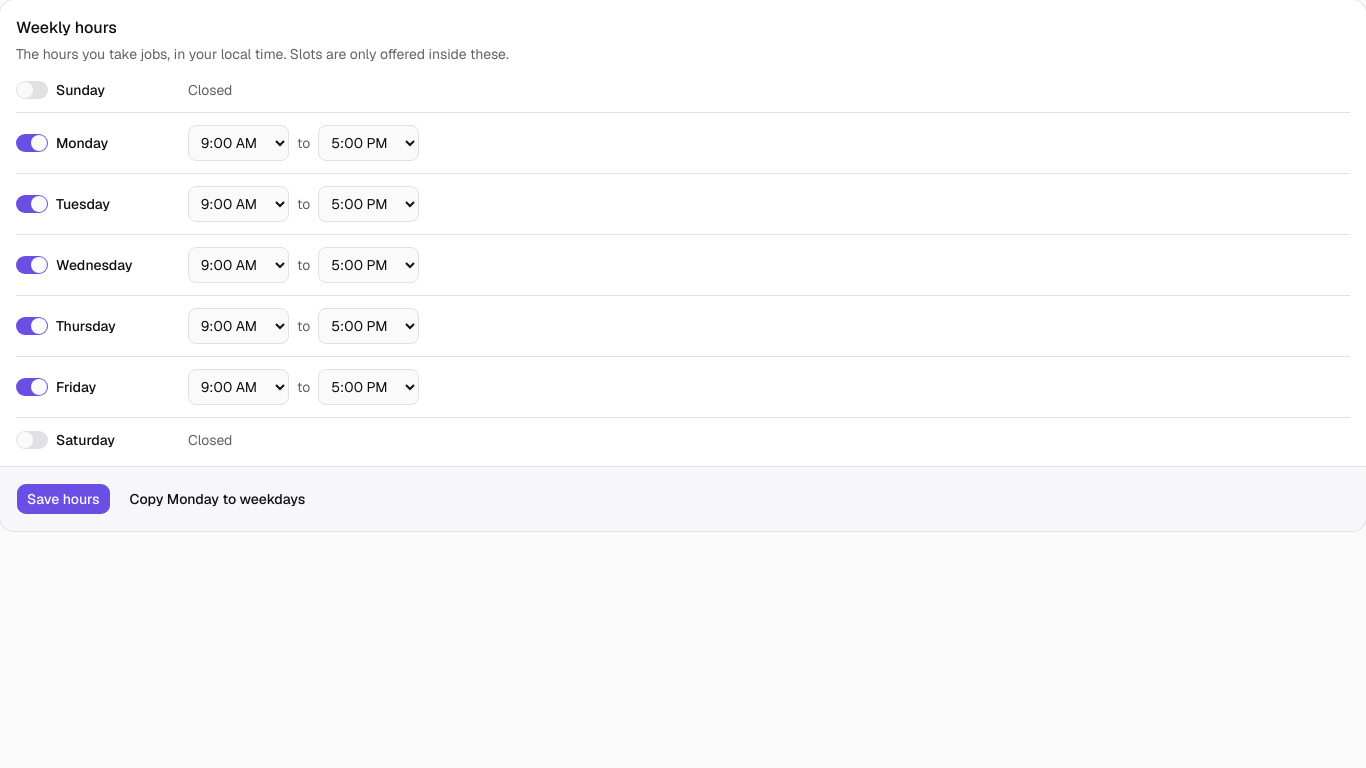
HoursEditor › surfaces a rejection from the server
Click the button "Save hours". click: (63, 499)
box: [16,483,111,515]
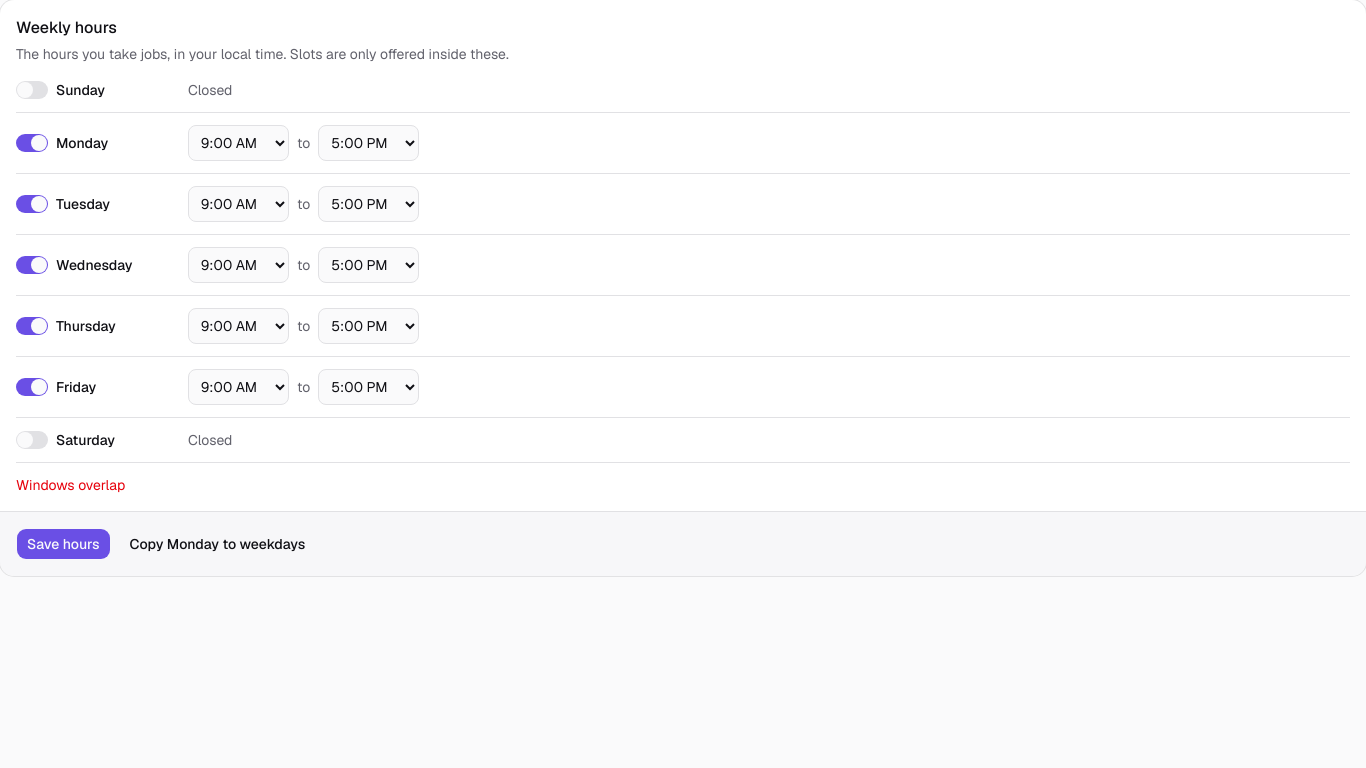
Now the message reads "Windows overlap", box [16,476,125,494]
